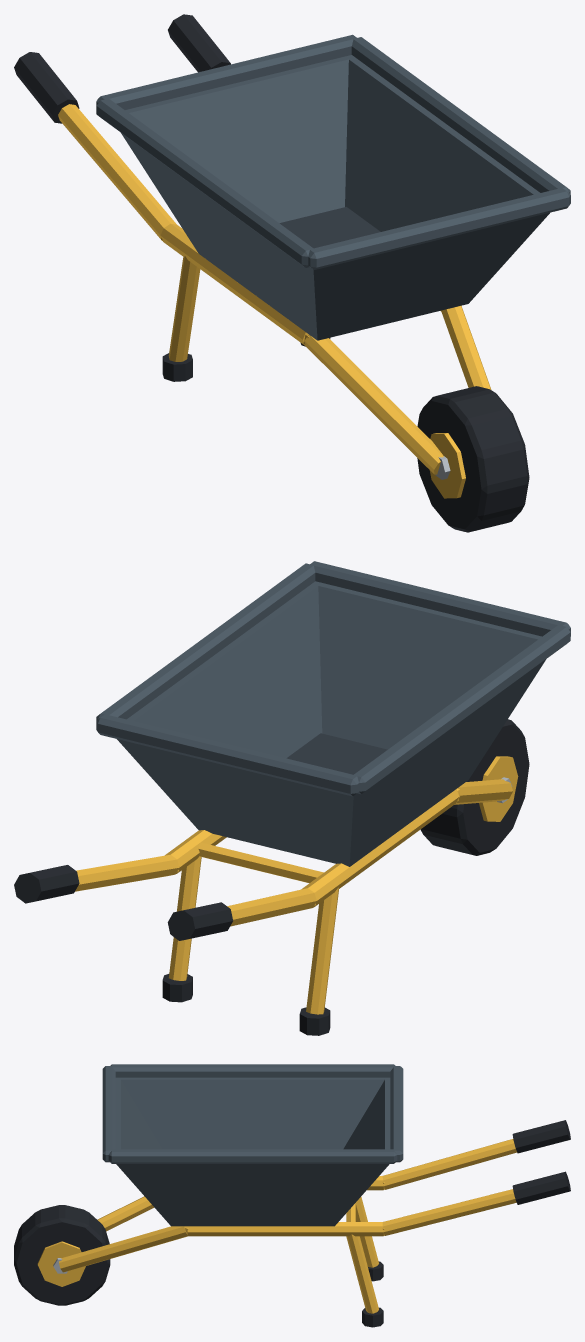
The model's file is Prop_Wheelbarrow.fbx.
The picture shows the model from 3 angles, top to bottom: view 1: azimuth 30°, elevation 25°; view 2: azimuth 150°, elevation 25°; view 3: azimuth 270°, elevation 25°; orthographic projection. The views are drawn at different scales.
Visible parts, largest first — view 1: Frame, Rubber, Amber_Metal, FrameDark; view 2: Frame, Amber_Metal, Rubber, FrameDark; view 3: Frame, Amber_Metal, Rubber.
Boxes of the visible parts, bbox=[...] form: Frame: bbox=[96, 34, 570, 340]; Rubber: bbox=[14, 14, 529, 532]; Amber_Metal: bbox=[58, 104, 491, 498]; FrameDark: bbox=[279, 207, 380, 248]; Frame: bbox=[96, 561, 570, 866]; Amber_Metal: bbox=[75, 756, 518, 1014]; Rubber: bbox=[14, 719, 529, 1035]; FrameDark: bbox=[286, 733, 387, 774]; Frame: bbox=[102, 1064, 403, 1226]; Amber_Metal: bbox=[37, 1139, 517, 1313]; Rubber: bbox=[14, 1120, 570, 1327].
Size of the model in its own units: 1.96 by 1.94 by 5.11.
